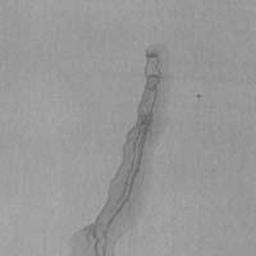Water spot: (67, 42, 175, 256)
